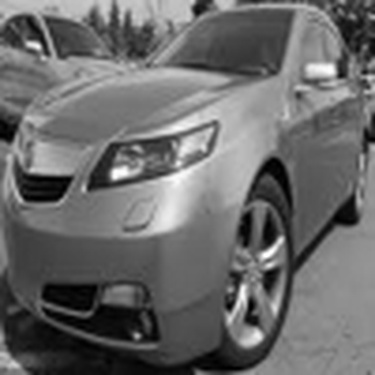car: (3, 4, 370, 370), (4, 19, 135, 134), (358, 64, 373, 148)
